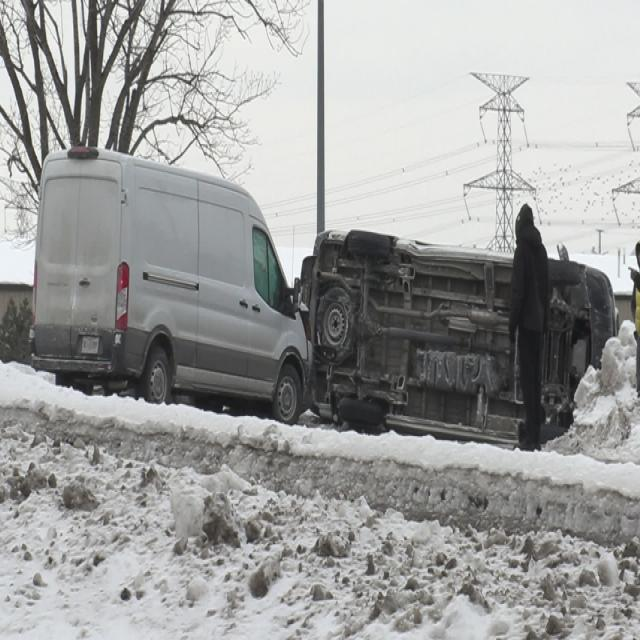Accident: (28, 141, 613, 453)
